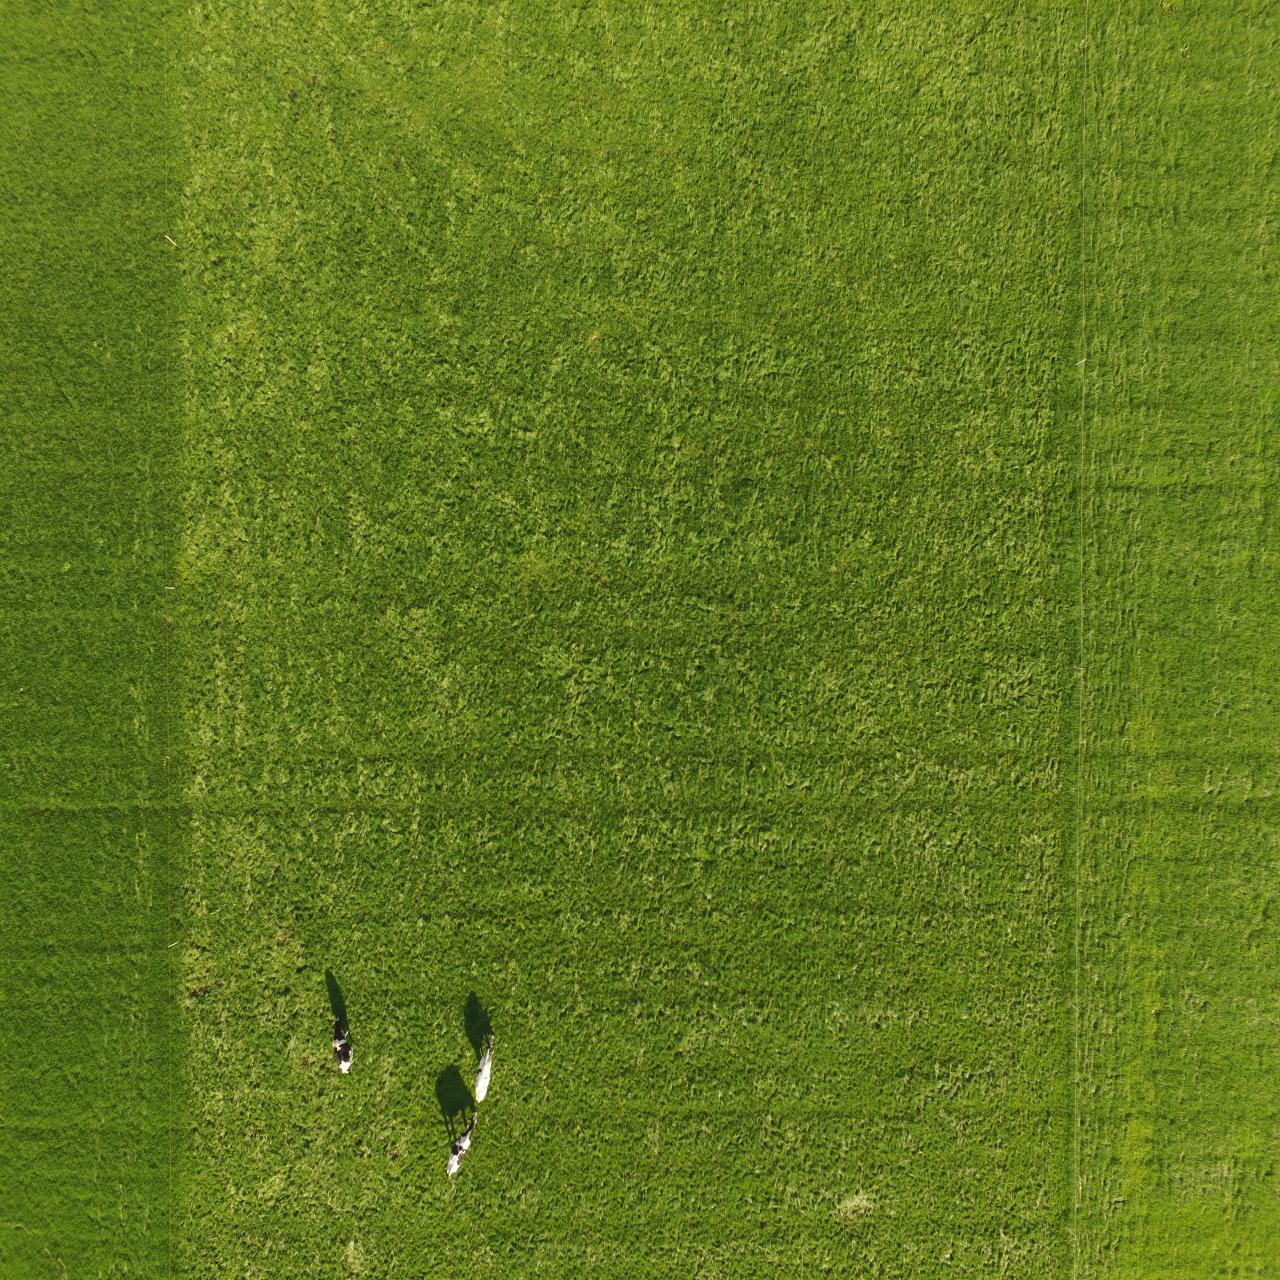cow: (317, 1007, 359, 1079), (444, 1109, 481, 1182), (473, 1019, 495, 1114)
